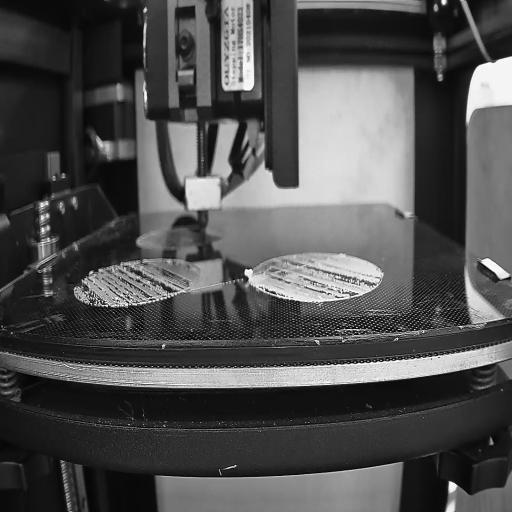under_extrusion: (257, 258, 385, 297), (77, 261, 191, 301)
